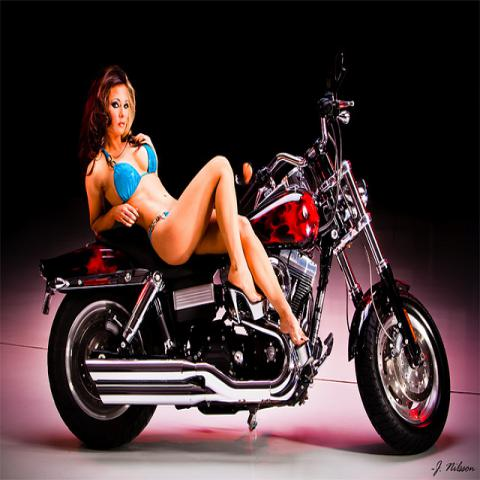motorcycle: (39, 53, 452, 451)
